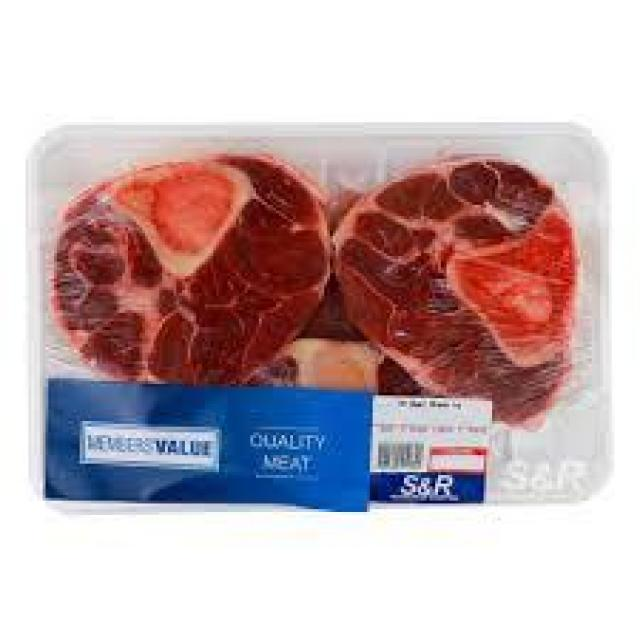beef: (45, 156, 335, 384)
